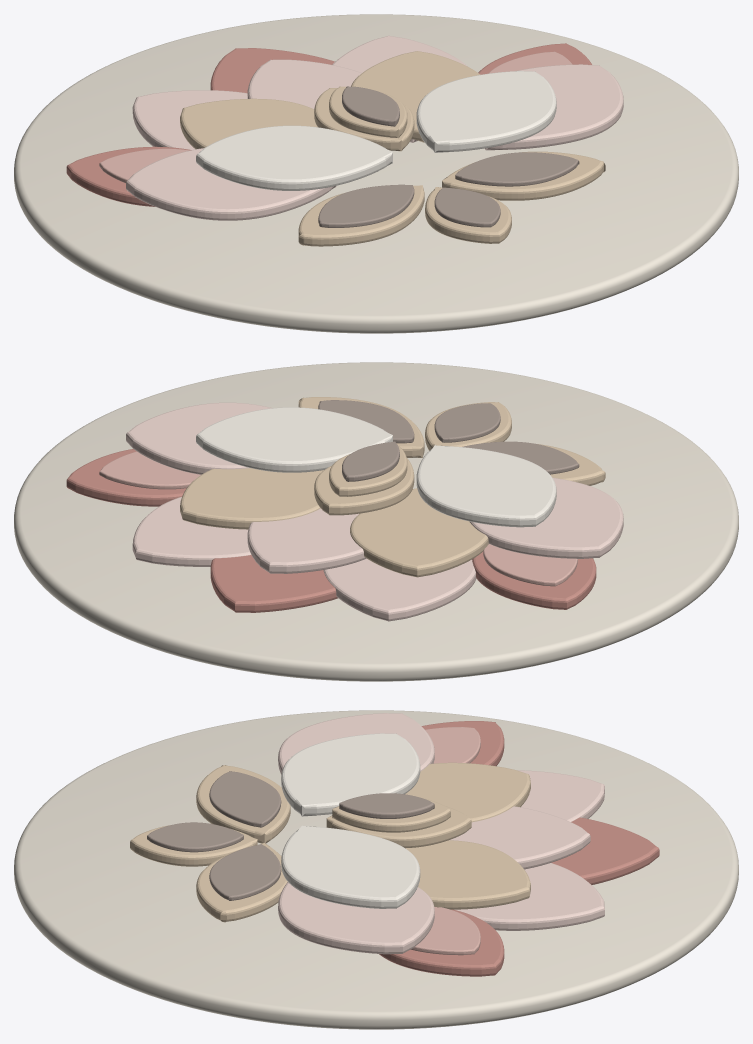
File: lotus_bloom_web.glb
The picture shows the model from 3 angles, top to bottom: view 1: azimuth 30°, elevation 25°; view 2: azimuth 150°, elevation 25°; view 3: azimuth 270°, elevation 25°; orthographic projection.
Parts seen in each view (by area): view 1: Lotus_Circular_Base, Front_Left, Front_Right, Wide_Left, Wide_Right, Mid_Left, Mid_Right, Mid_Center, Back_Left, Lower_Right_Inset, Lower_Left_Inset, Lower_Left_Frame (+12 smaller); view 2: Lotus_Circular_Base, Front_Left, Front_Right, Mid_Left, Mid_Right, Wide_Left, Back_Left, Mid_Center, Back_Center, Wide_Right, Back_Right, Side_Left_Frame (+12 smaller); view 3: Lotus_Circular_Base, Front_Right, Front_Left, Wide_Right, Mid_Right, Back_Right, Mid_Left, Mid_Center, Back_Center, Wide_Left, Back_Left, Side_Right_Frame (+12 smaller).
Boxes of the visible parts, x1,y1,x2,y2 form: Lotus_Circular_Base: [14, 14, 738, 333]; Front_Left: [196, 125, 392, 190]; Front_Right: [416, 71, 556, 152]; Wide_Left: [126, 148, 336, 220]; Wide_Right: [484, 64, 623, 150]; Mid_Left: [180, 98, 317, 149]; Mid_Right: [351, 51, 480, 142]; Mid_Center: [247, 59, 361, 108]; Back_Left: [132, 90, 247, 149]; Lower_Right_Inset: [455, 152, 579, 186]; Lower_Left_Inset: [318, 184, 414, 227]; Lower_Left_Frame: [298, 185, 424, 246]; Lotus_Circular_Base: [14, 362, 738, 681]; Front_Left: [416, 445, 556, 527]; Front_Right: [196, 407, 392, 472]; Mid_Left: [350, 488, 488, 577]; Mid_Right: [180, 468, 323, 529]; Wide_Left: [469, 477, 623, 558]; Back_Left: [323, 558, 476, 621]; Mid_Center: [247, 508, 366, 573]; Back_Center: [210, 555, 337, 612]; Wide_Right: [126, 402, 272, 474]; Back_Right: [132, 497, 251, 566]; Side_Left_Frame: [472, 551, 596, 609]; Lotus_Circular_Base: [14, 710, 738, 1029]; Front_Right: [281, 825, 420, 908]; Front_Left: [281, 733, 420, 816]; Wide_Right: [278, 882, 434, 954]; Mid_Right: [405, 840, 530, 909]; Back_Right: [454, 863, 604, 930]; Mid_Left: [405, 762, 530, 822]; Mid_Center: [449, 806, 590, 869]; Back_Center: [551, 817, 659, 884]; Wide_Left: [278, 713, 434, 774]; Back_Left: [517, 770, 604, 821]; Side_Right_Frame: [379, 909, 504, 976].
Bounding box in the file's own units: 10.5 × 1.21 × 10.5.
